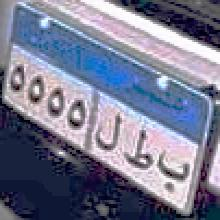5: (44, 88, 66, 120), (66, 97, 86, 132), (26, 72, 46, 105), (7, 65, 26, 95)
Taa: (124, 126, 154, 173)
baa: (155, 151, 191, 195)
laam: (93, 112, 121, 154)
